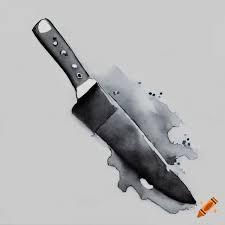Knife: (31, 17, 197, 206)
